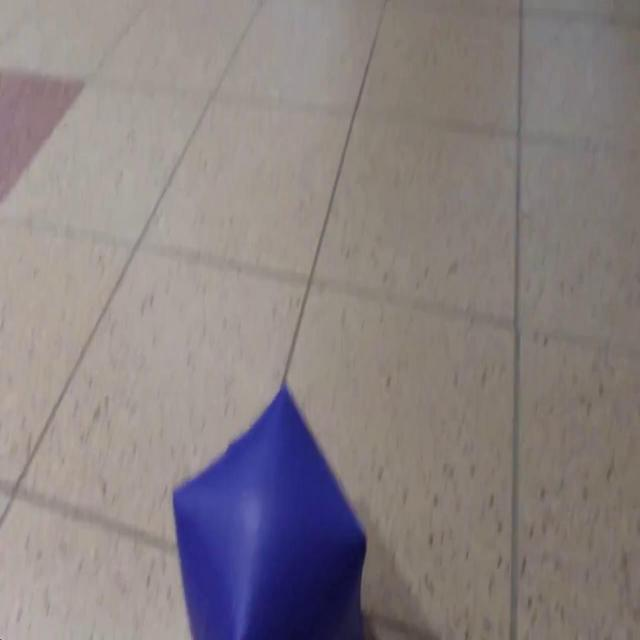frc_cube: (172, 386, 368, 640)
